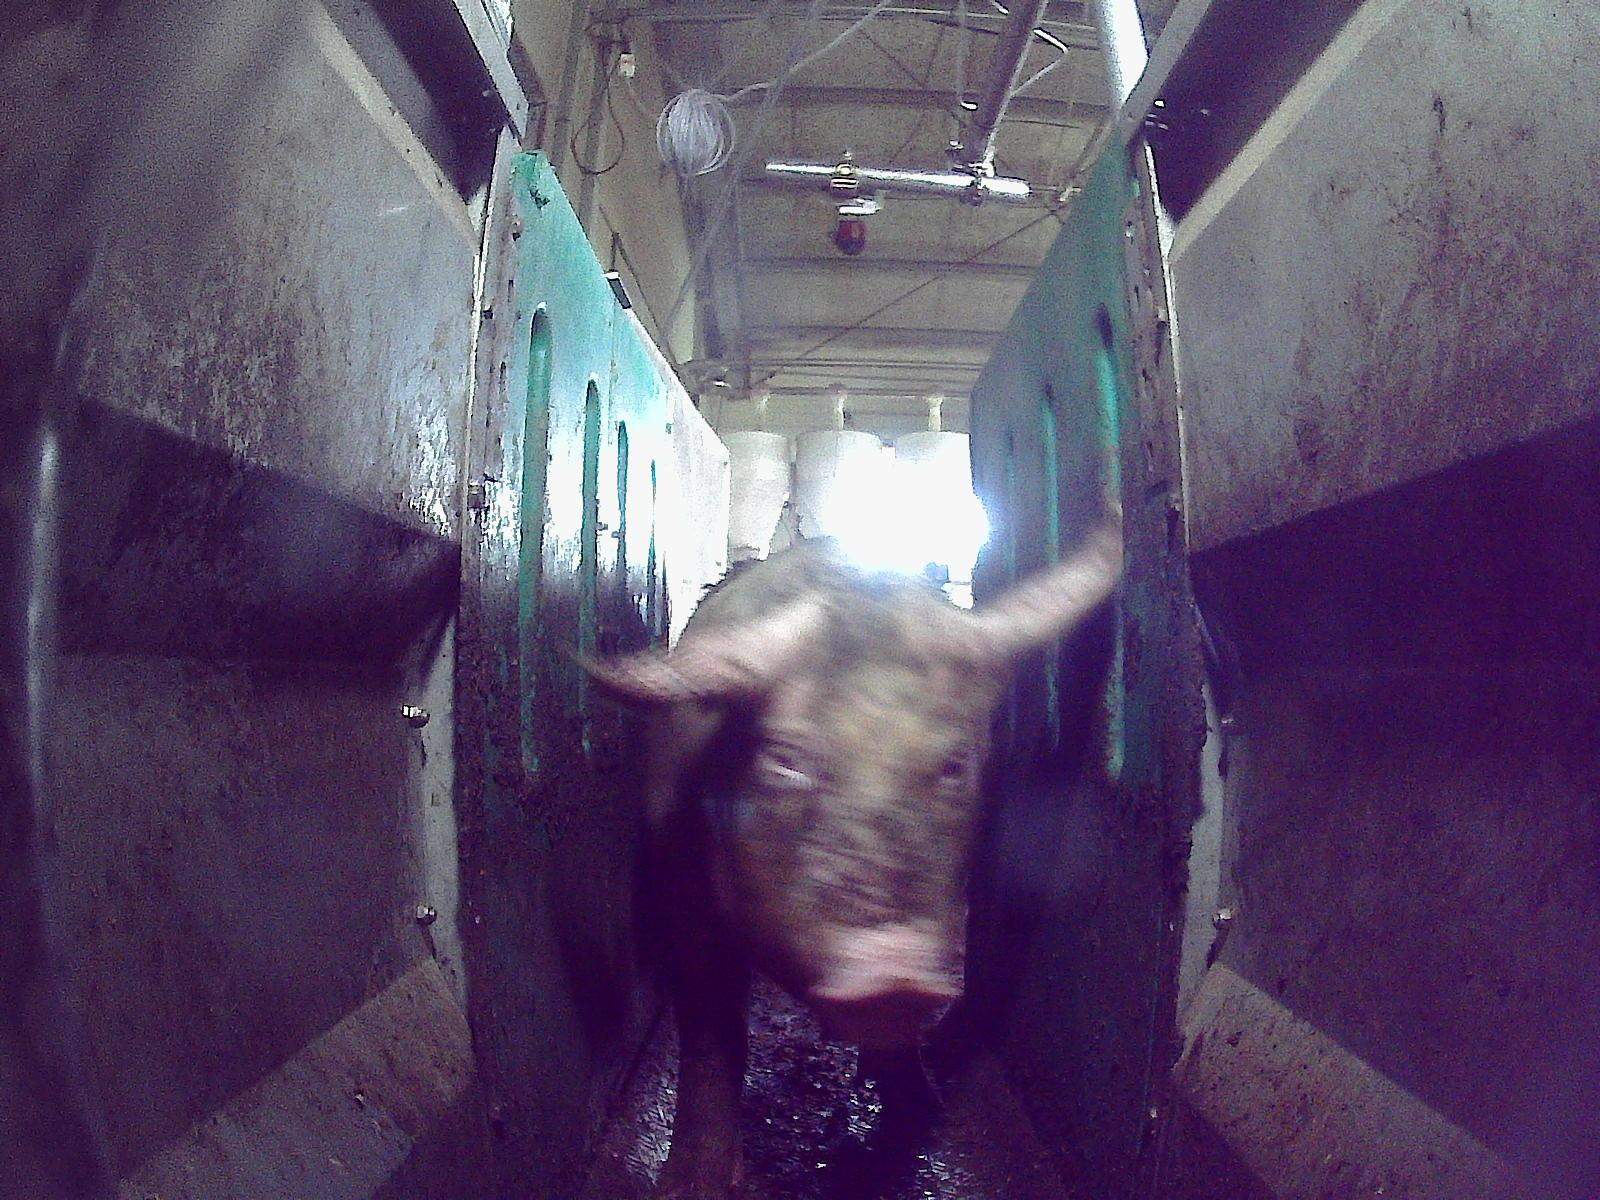Face: (700, 598, 1005, 1045)
